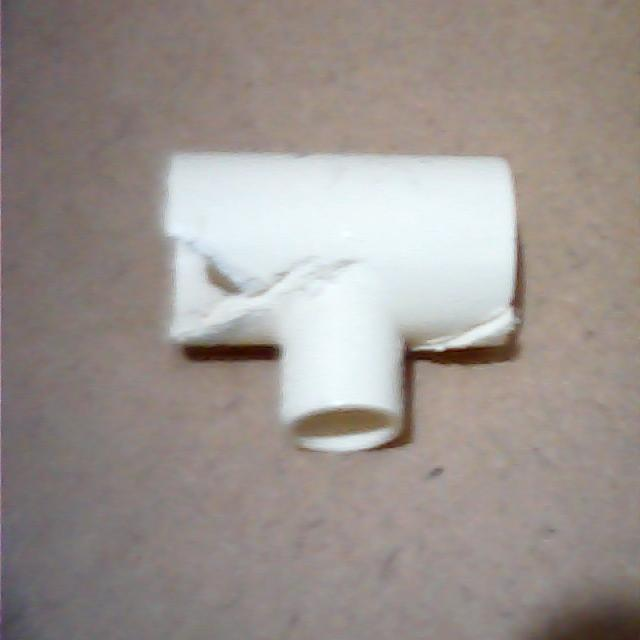Defective: (157, 200, 295, 352), (408, 292, 536, 372)
T Joint: (161, 152, 523, 457)
